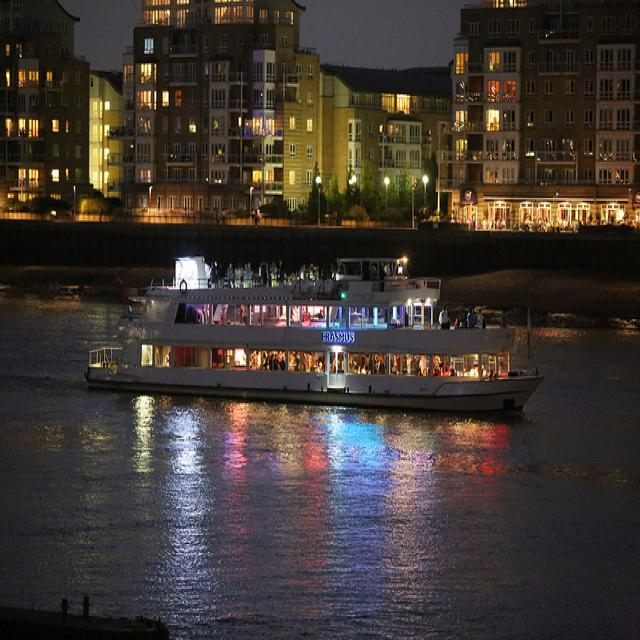Boat: (50, 232, 558, 439)
